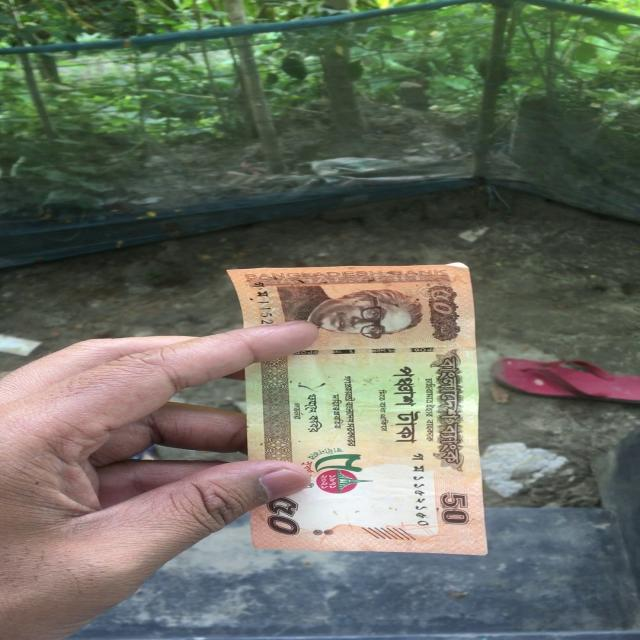Taka: (246, 264, 487, 553)
